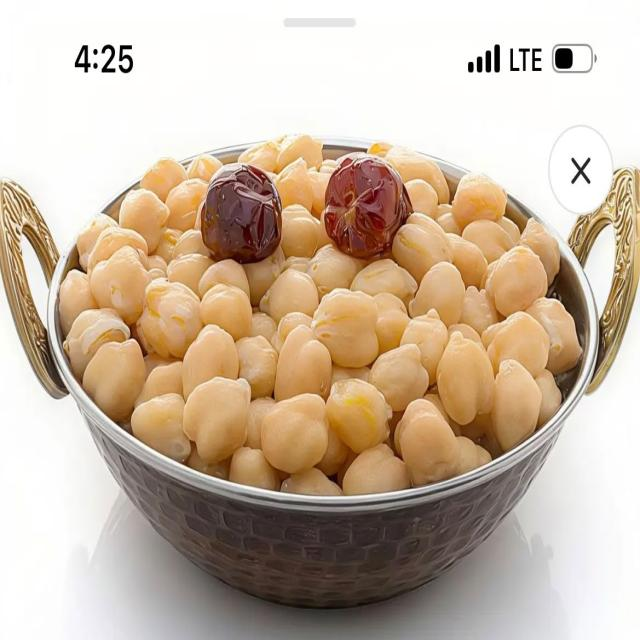Nakhi: (54, 130, 587, 495)
